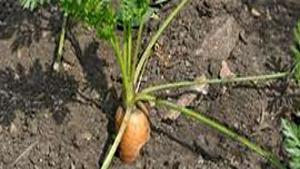carrot: (110, 96, 159, 169)
